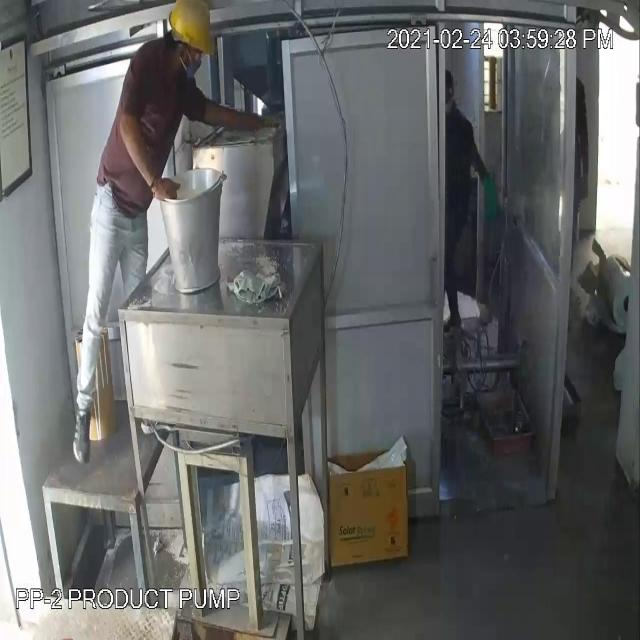helmet: (163, 1, 215, 65)
